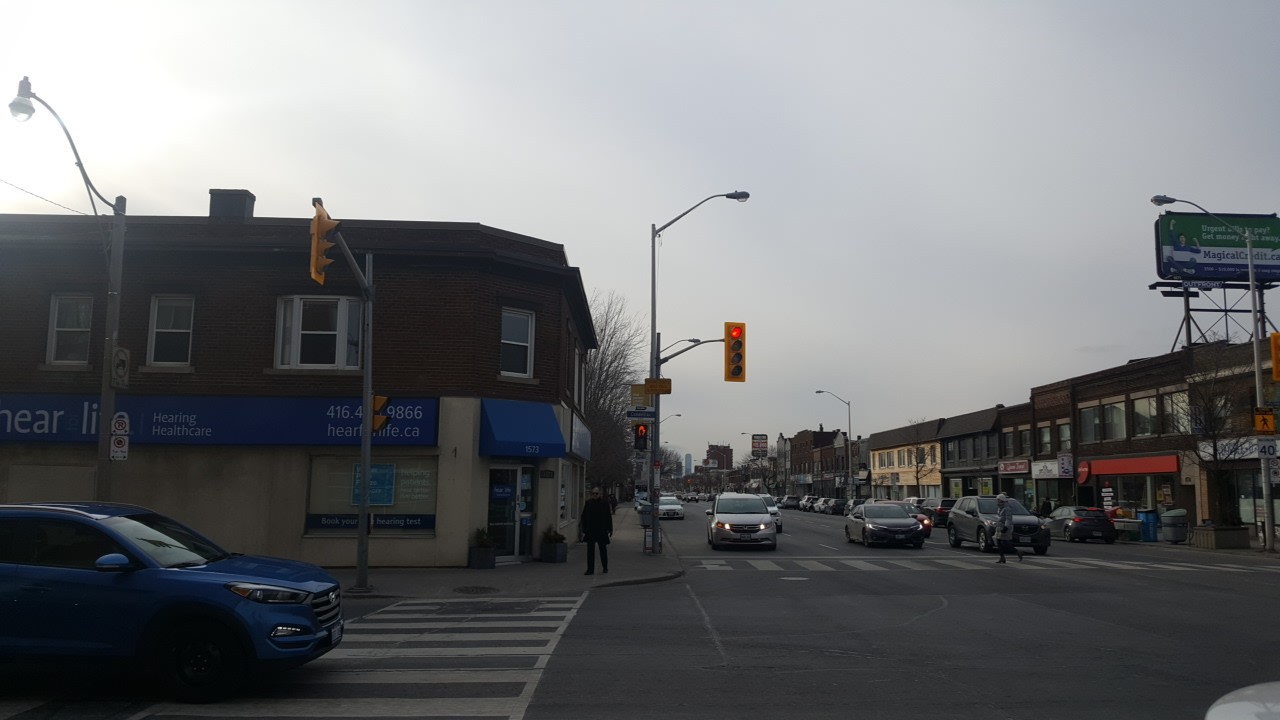light: (632, 421, 648, 449)
